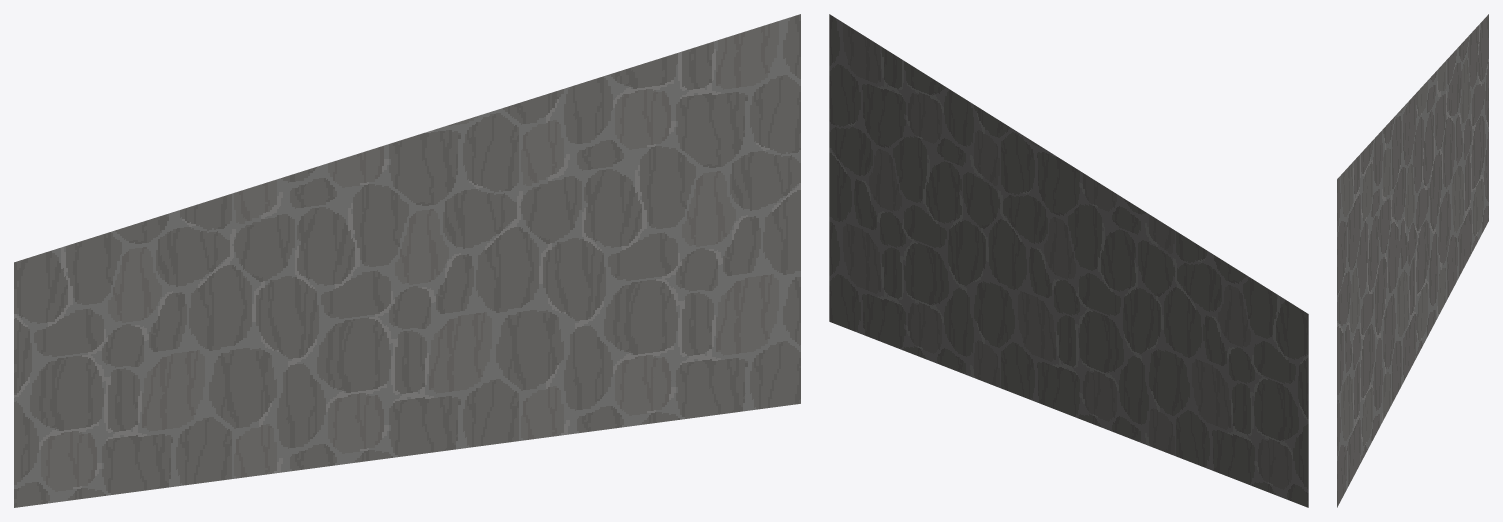
Rendered from kd_connection_town-ground_surface_2_26.glb.
3 views of the same model, side by side, from view 1: azimuth 30°, elevation 25°; view 2: azimuth 150°, elevation 25°; view 3: azimuth 270°, elevation 25° (orthographic). The views are drawn at different scales.
Parts seen in each view (by area): view 1: kd_connection_town-ground_surface_2_26; view 2: kd_connection_town-ground_surface_2_26; view 3: kd_connection_town-ground_surface_2_26.
Part boxes in pixels (x1=…): kd_connection_town-ground_surface_2_26: x1=14, y1=14, x2=800, y2=507; kd_connection_town-ground_surface_2_26: x1=829, y1=14, x2=1308, y2=507; kd_connection_town-ground_surface_2_26: x1=1337, y1=14, x2=1488, y2=507.
Bounding box in the file's own units: 1.31 × 0.7 × 0.2928.
1 material, 1 textured.
